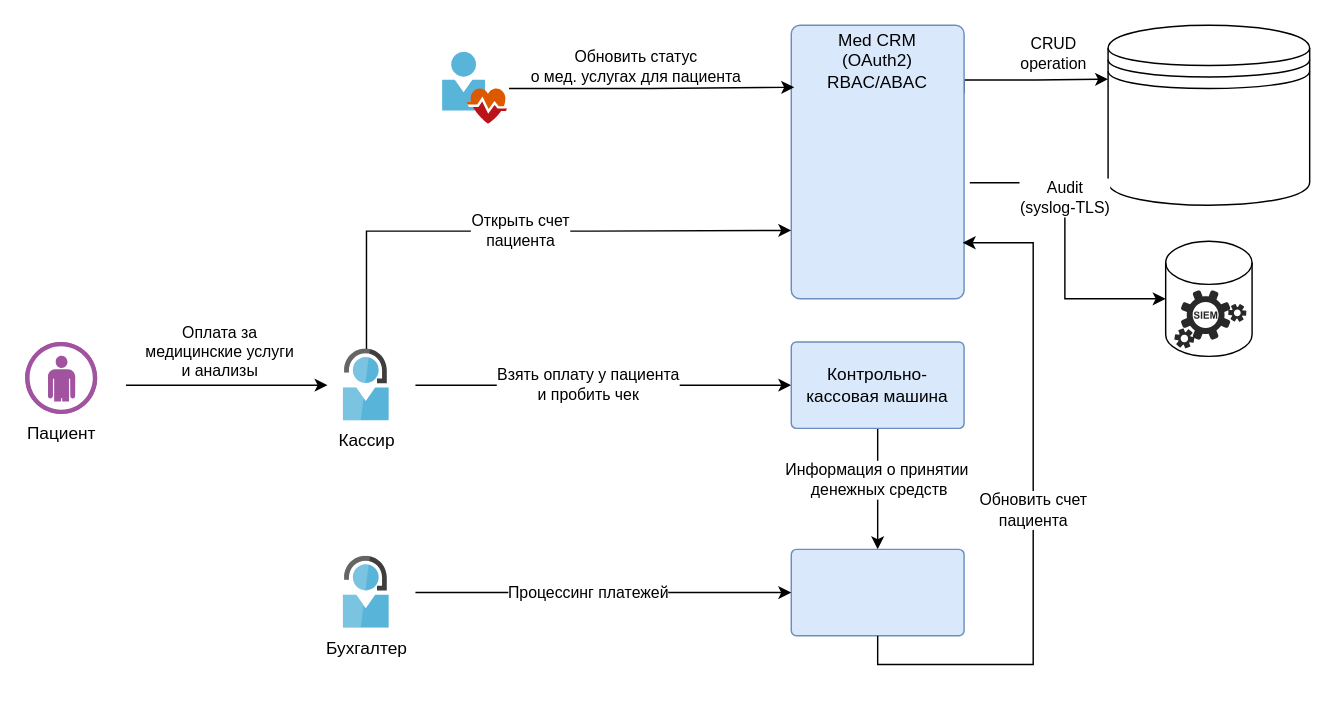
The diagram is 1335 pixels wide and 701 high, and some of its shapes have lost their labels. The shapes that lost their labels are listed below. From the top down, each one's centre as x and y in pixels, then its label:
At (475,88): "Медицинский специалист".
At (1208,114): "PostgreSQL [patiets] шифрование TDE".
At (877,592): "1C Бухгалтерия предприятия".
